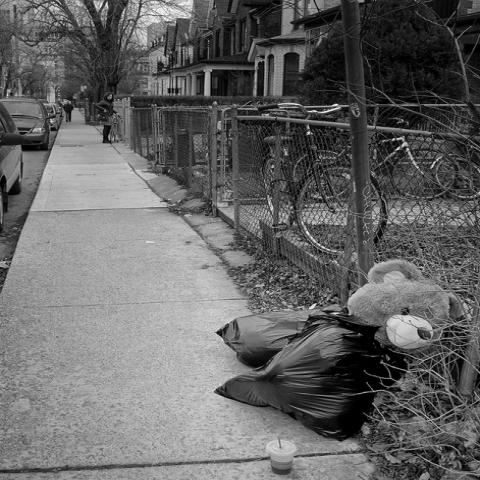car: (0, 100, 28, 229), (0, 94, 52, 152), (46, 103, 64, 131)
